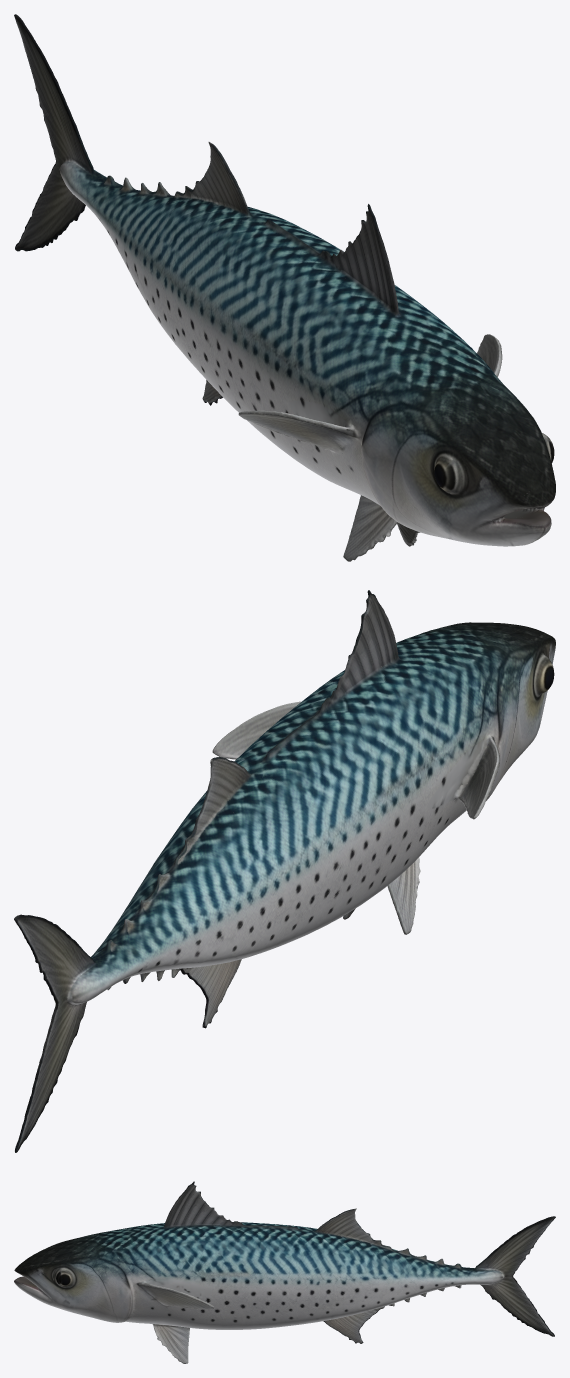
The model's file is gomasaba.glb.
3 renders of one model, top to bottom at view 1: azimuth 30°, elevation 25°; view 2: azimuth 150°, elevation 25°; view 3: azimuth 270°, elevation 25°, orthographic. The views are drawn at different scales.
Size of the model in its own units: 0.5311 by 0.677 by 1.9.
Materials: 1 (1 with a texture image).
